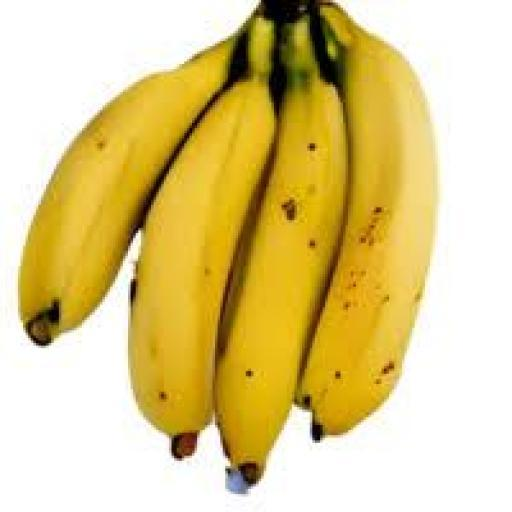banana: (18, 39, 238, 345), (131, 16, 276, 458), (216, 16, 348, 483), (297, 6, 437, 440)
